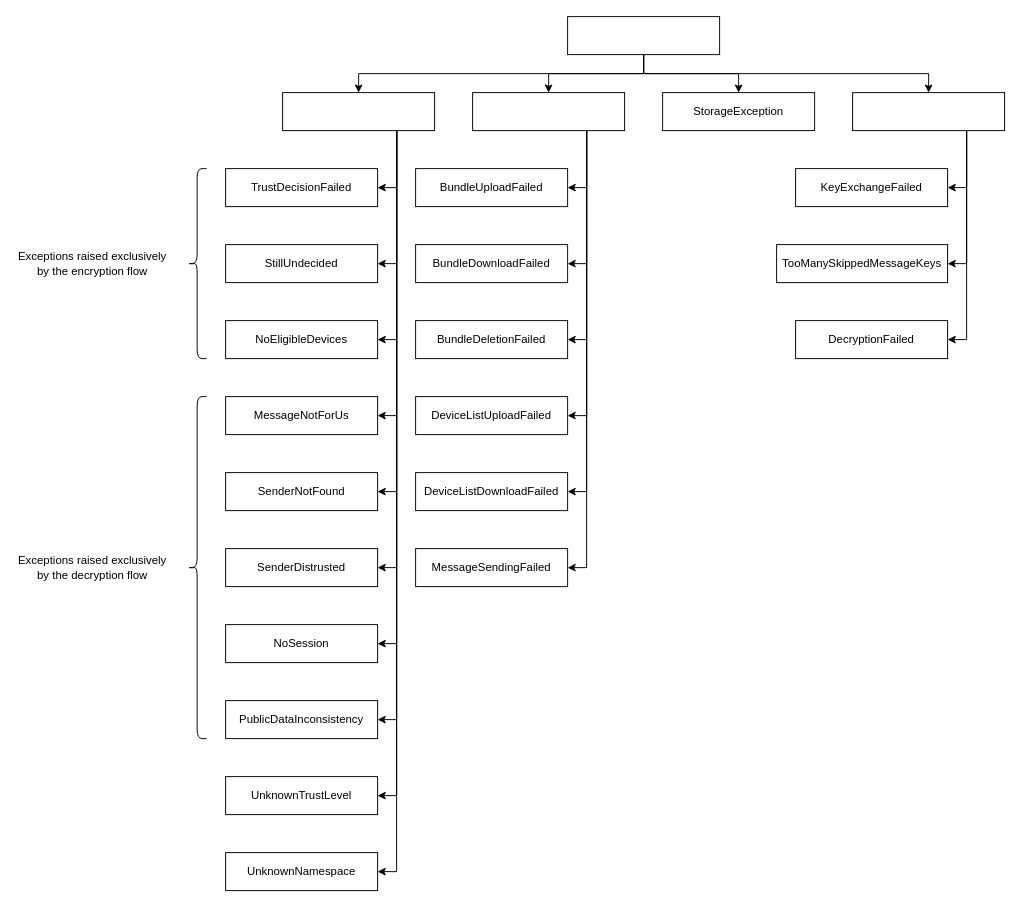
The diagram is 1021 pixels wide and 907 high, and some of its shapes have lost their labels. Here are the shapes that lost their labels. From the top down, the centre of each, then its label:
point 643,35: OMEMOException
point 358,111: SessionManagerException
point 548,111: XMPPInteractionFailed
point 928,111: BackendException
